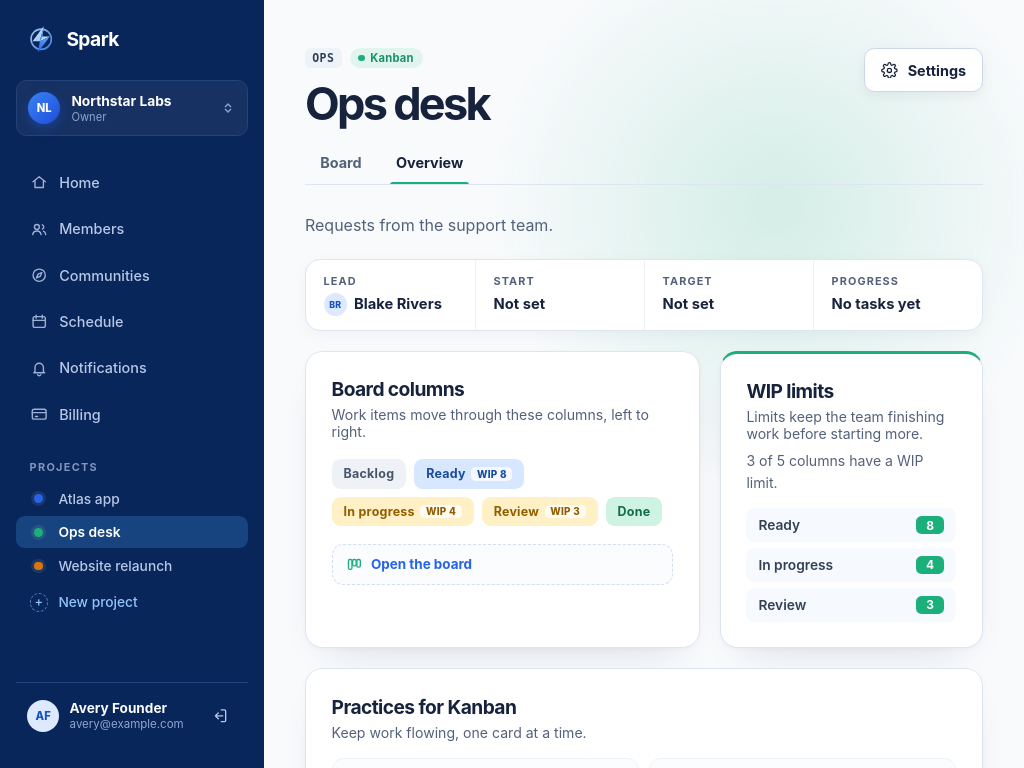
project overview › saves settings with If-Match and confirms in a toast
This screenshot has width=1024, height=768.
Click the button "Settings".
click(924, 70)  # box [864,48,983,92]
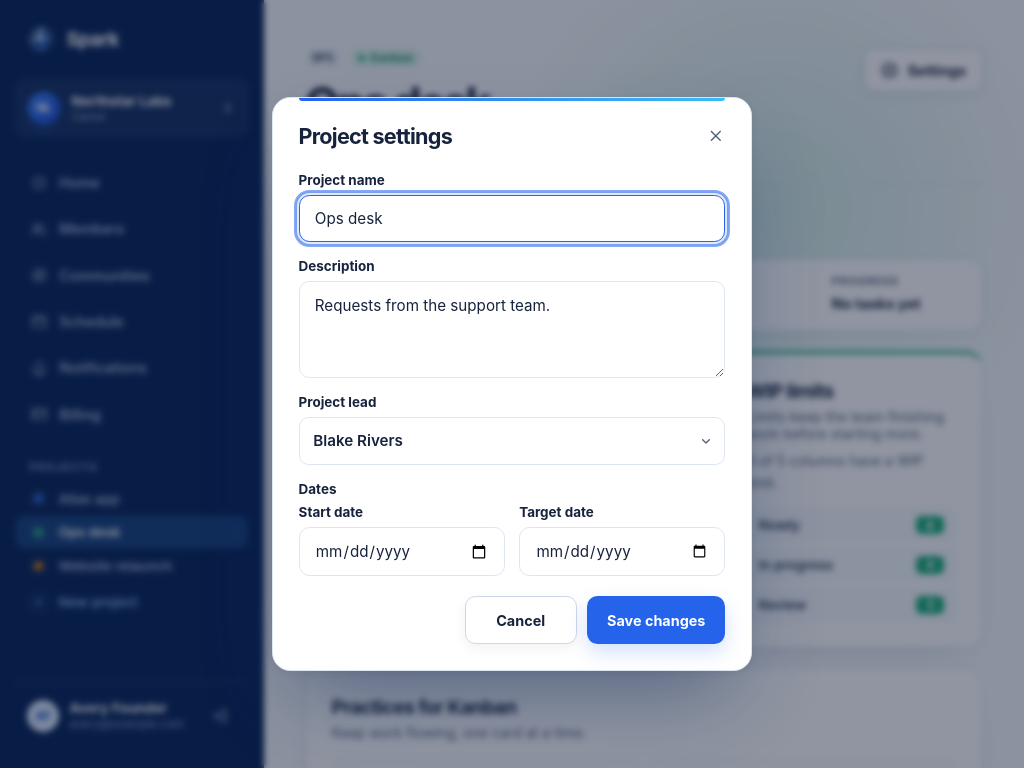
Expected: the field labelled "Project name" holds "Ops desk"
Replace the text in the field labelled "Project name" with "Ops help desk" at (512, 218), box [299,195,725,242]
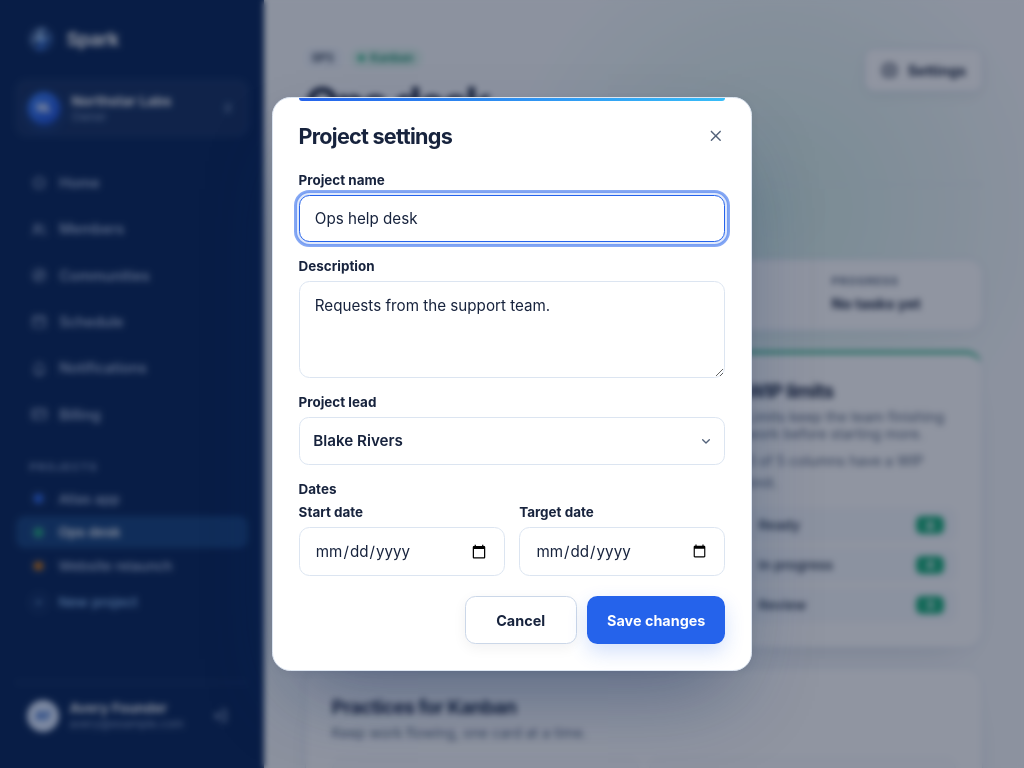
Click the button "Save changes".
click(656, 620)  # box [587,596,725,644]
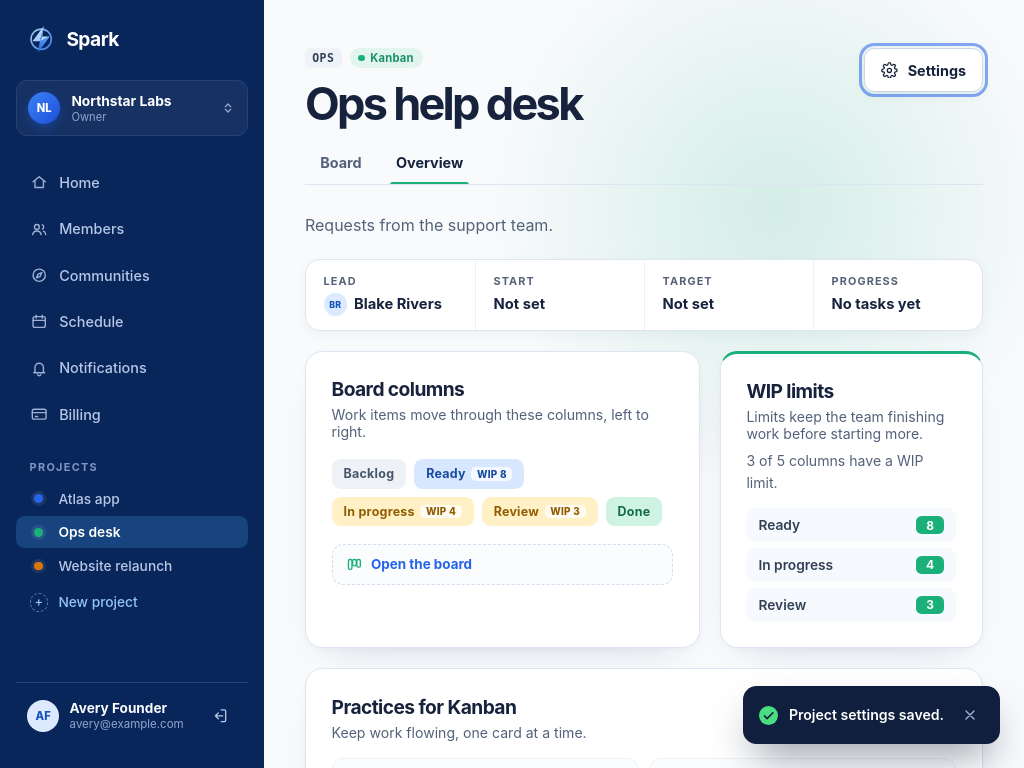
Expected: the dialog is gone
Expected: the heading "Ops help desk" is shown, [305,76,582,131]
